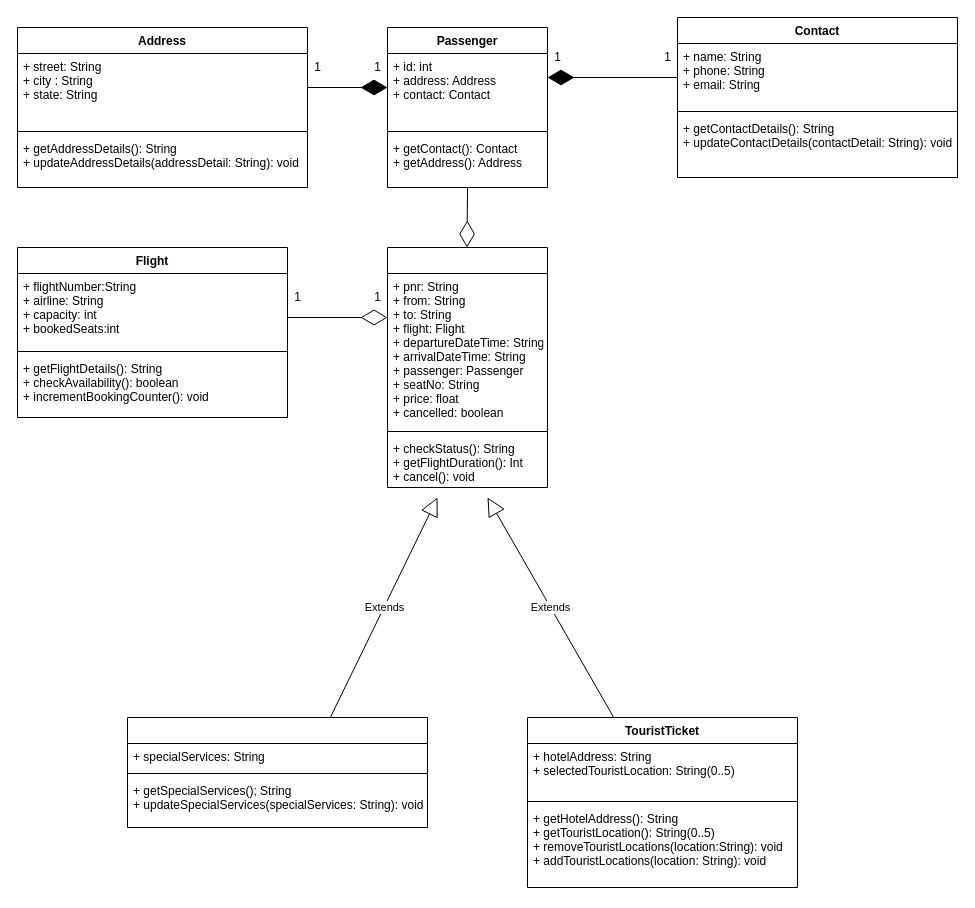
The diagram is 975 pixels wide and 908 high, and some of its shapes have lost their labels. The box of each missing label's shape, as (x1, y1, x2, y2) in pixels:
RegularTicket: (126, 716, 428, 828)
Ticket: (386, 246, 548, 488)
